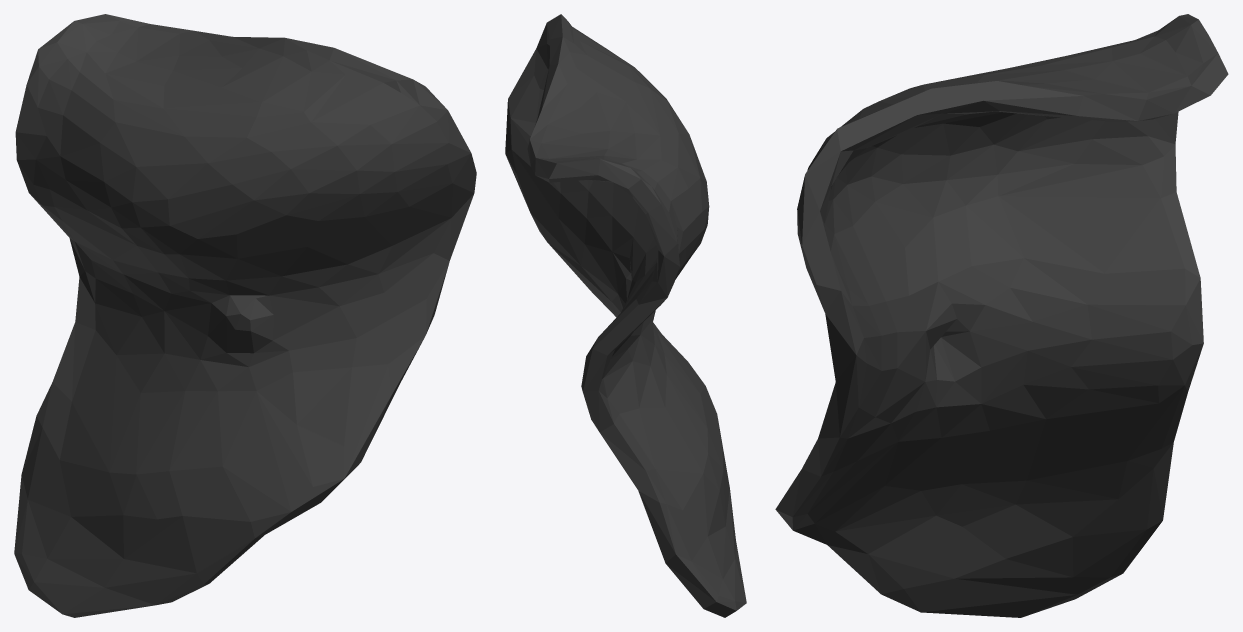
Rendered from Tibia_articular_surface.glb.
The picture shows the model from 3 angles, left to right: view 1: azimuth 30°, elevation 25°; view 2: azimuth 150°, elevation 25°; view 3: azimuth 270°, elevation 25°; orthographic projection. The views are drawn at different scales.
Visible parts, largest first — view 1: Tibia_articular_surface; view 2: Tibia_articular_surface; view 3: Tibia_articular_surface.
Boxes of the visible parts, <box> form: Tibia_articular_surface: <box>14,14,476,617</box>; Tibia_articular_surface: <box>505,14,746,617</box>; Tibia_articular_surface: <box>775,14,1228,617</box>.
Size of the model in its own units: 0.0208 by 0.0314 by 0.0195.
Materials: 1 (1 with a texture image).
